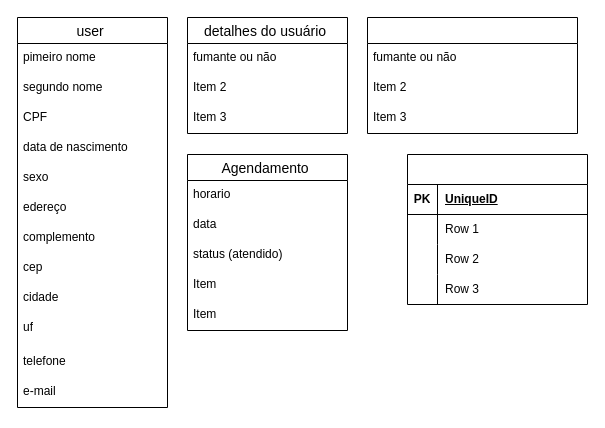
Image size: 605x428. Some labels were removed from this diagram. Here are the shapes that lost their labels. From the top down, the box of each, then its label:
(366, 16, 578, 134): detalhes do procedimento
(406, 154, 588, 304): Table
